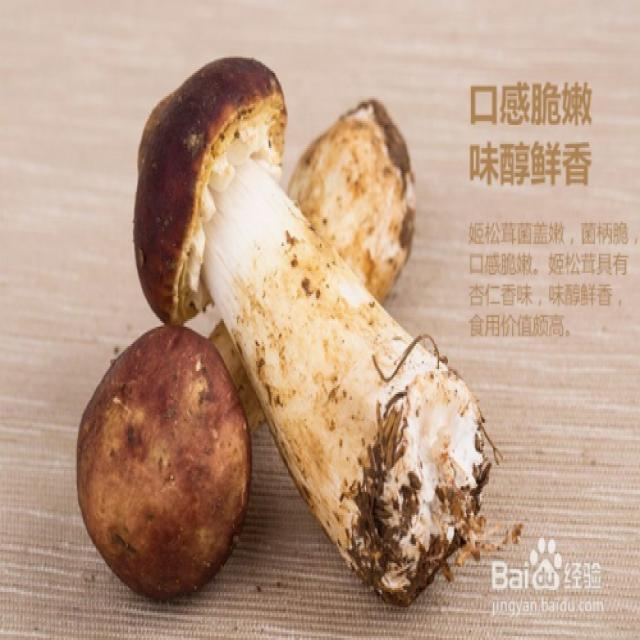Agaricus blazei Murill: (137, 58, 493, 601), (75, 99, 412, 600)
